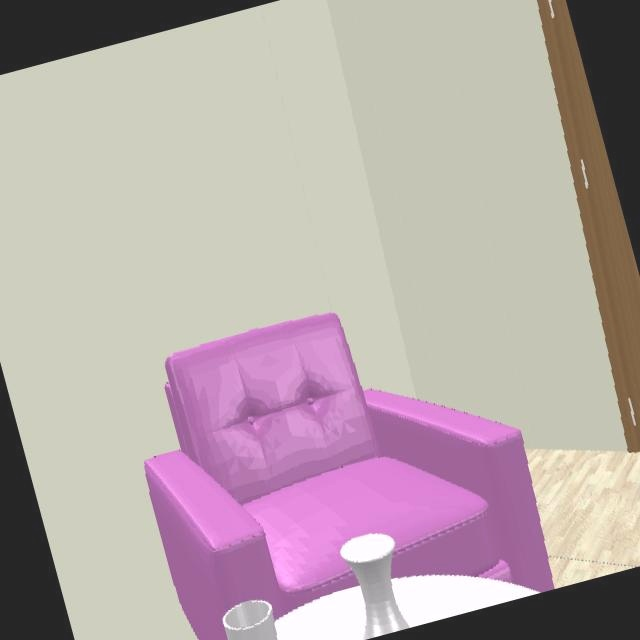sofa: (144, 312, 556, 640)
table: (391, 576, 541, 627), (275, 585, 366, 640)
